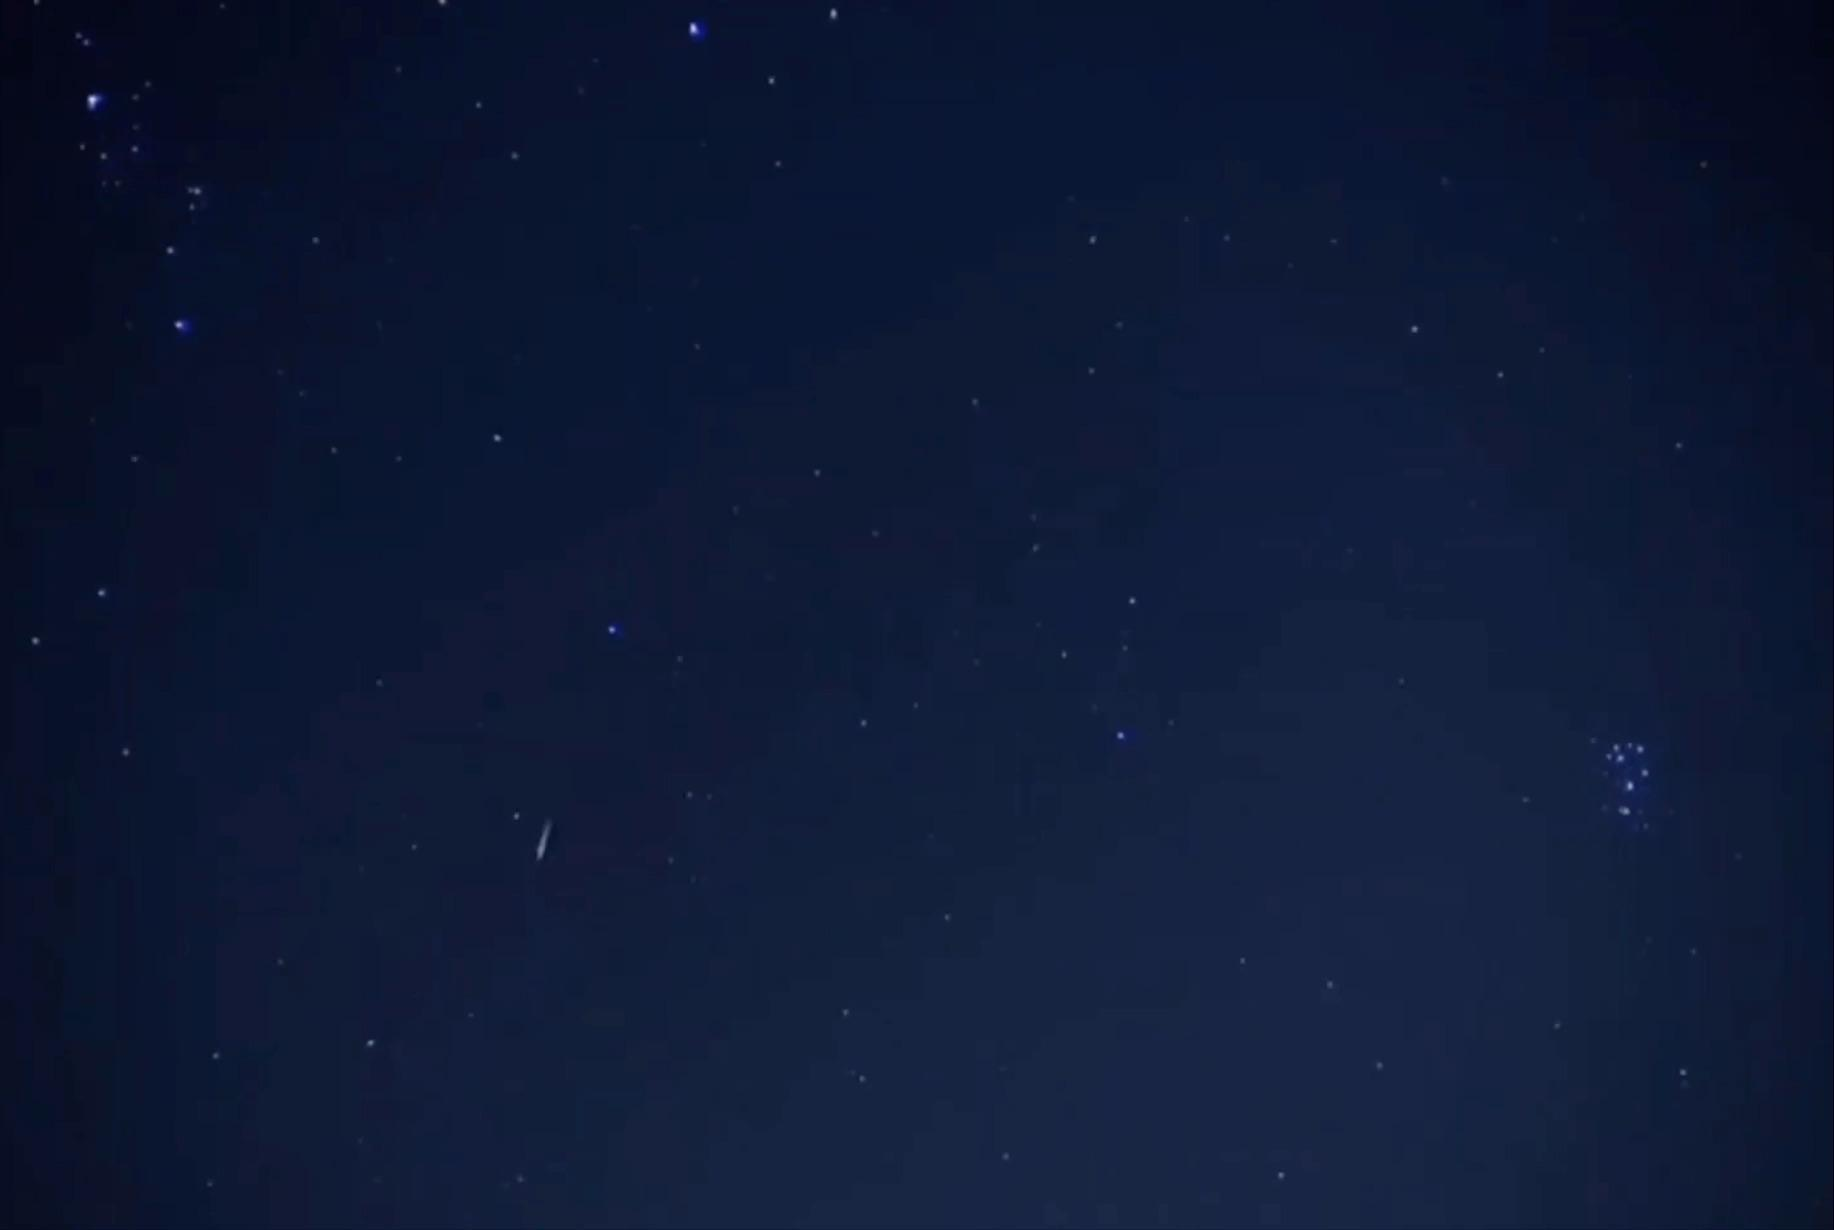meteorite: (475, 811, 605, 872)
